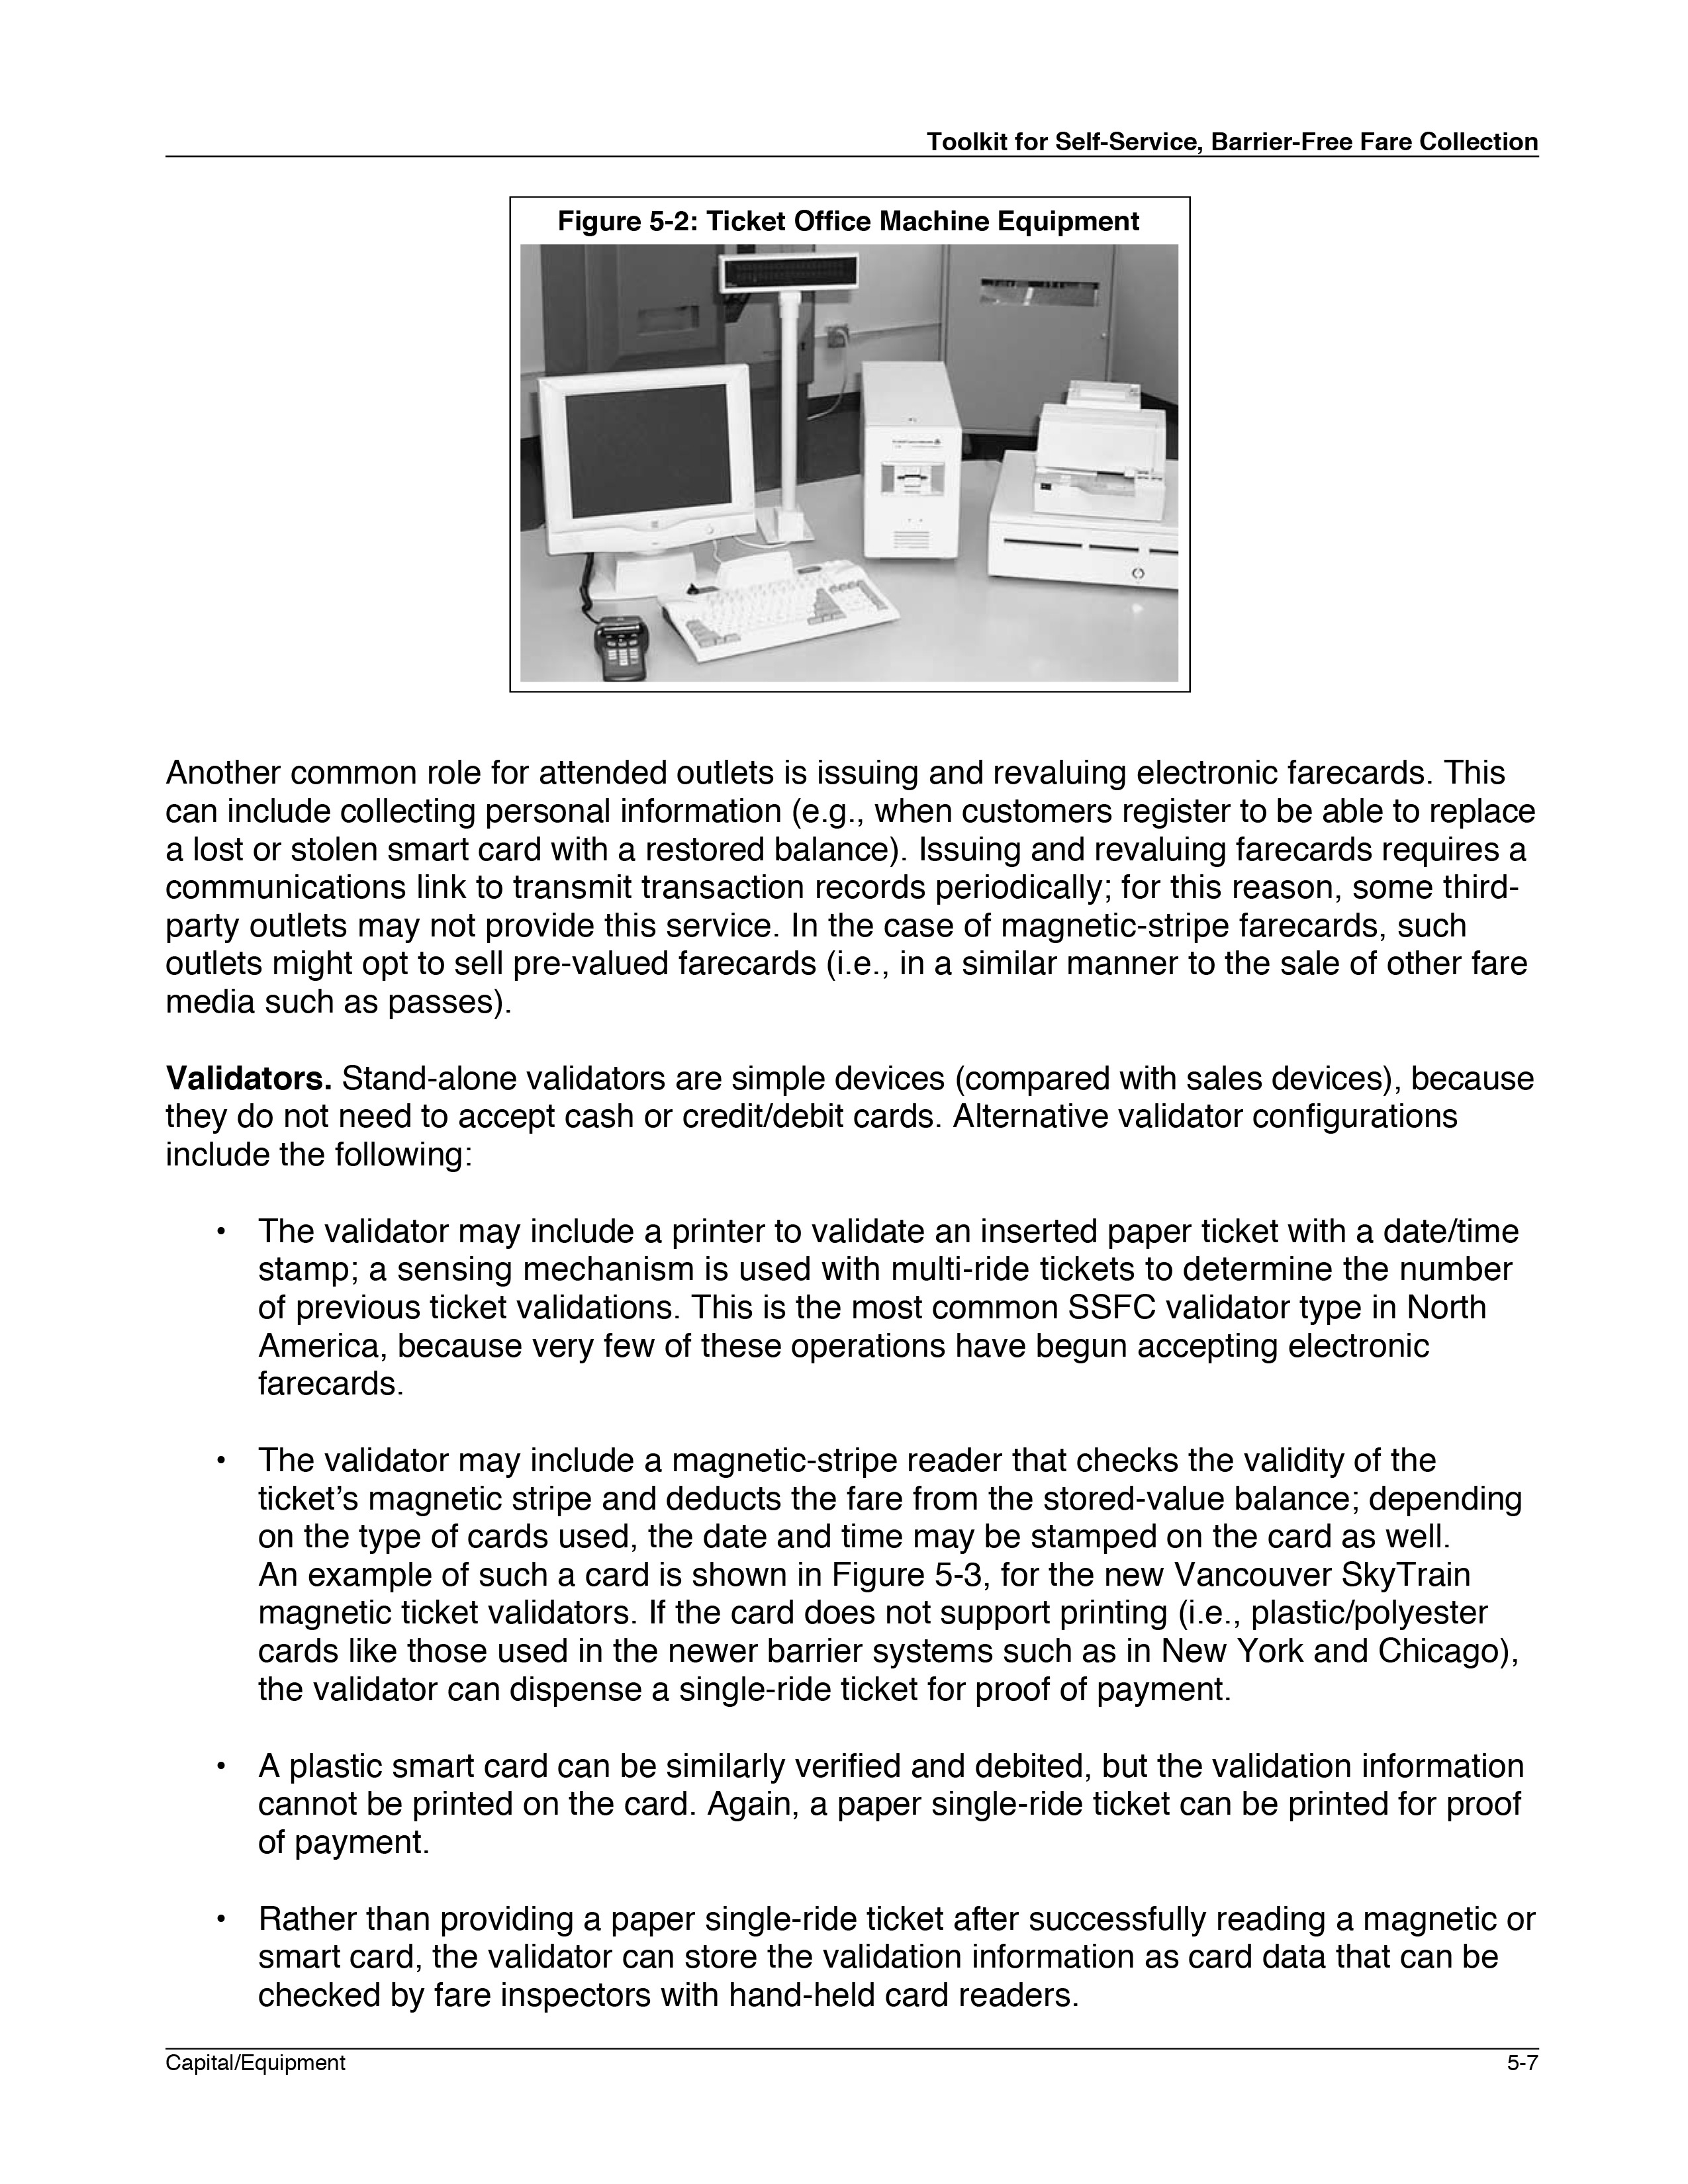figure: (496, 199, 1190, 693)
list: (195, 1213, 1566, 2032)
section: (149, 1048, 340, 1097)
text: (156, 750, 1527, 1021), (160, 1099, 1472, 1182), (340, 1058, 1546, 1103)
